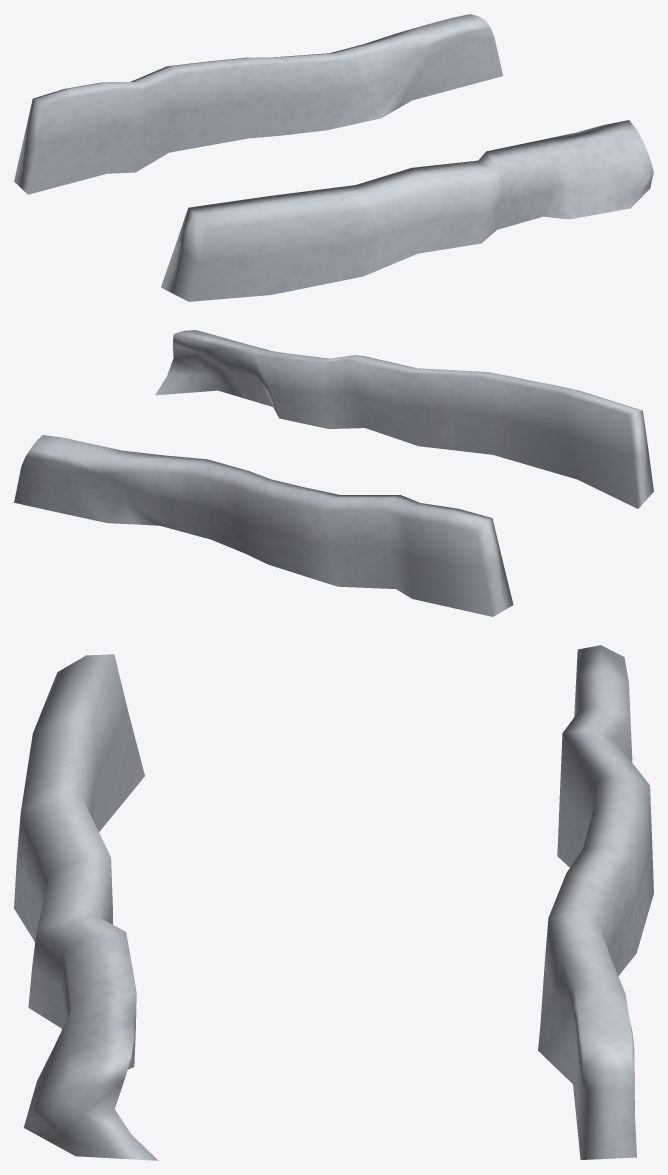
File: House_Stairs_SideSnow.fbx
3 views of the same model, one above another, from view 1: azimuth 30°, elevation 25°; view 2: azimuth 150°, elevation 25°; view 3: azimuth 270°, elevation 25° (orthographic). The views are drawn at different scales.
Parts seen in each view (by area): view 1: House_Stairs_SideSnow; view 2: House_Stairs_SideSnow; view 3: House_Stairs_SideSnow.
Part boxes in pixels (box(x1,y1,x2,y2)): House_Stairs_SideSnow: box(14, 14, 653, 301); House_Stairs_SideSnow: box(14, 330, 653, 616); House_Stairs_SideSnow: box(14, 645, 653, 1160).
Bounding box in the file's own units: 343 × 59.11 × 239.
